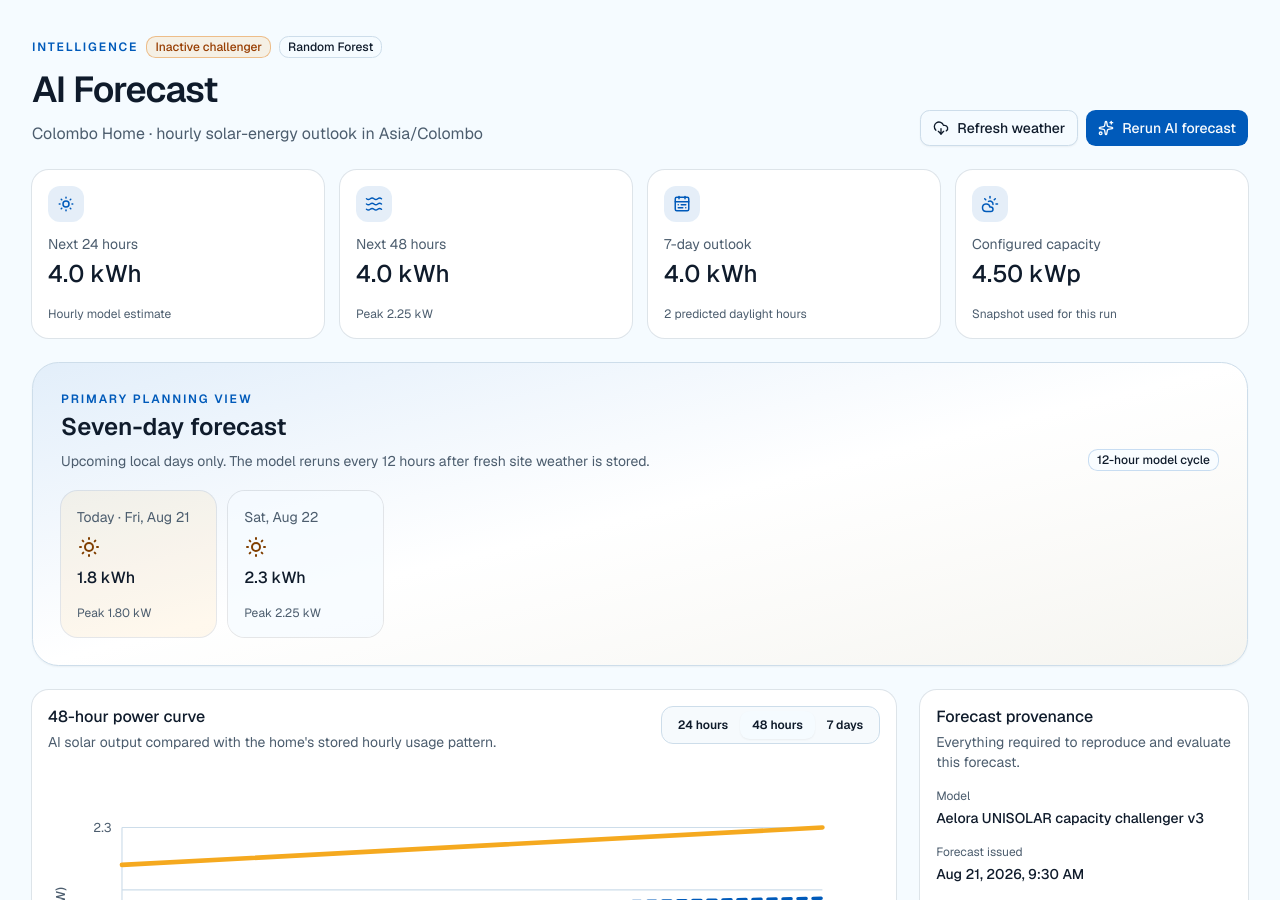
AI forecast dashboard › switches between 24-hour, 48-hour, and 7-day power curves
The image size is (1280, 900).
Expected: the heading "48-hour power curve" is shown, [48, 706, 205, 727]
Expected: the button "24 hours" is shown, [666, 711, 740, 739]
Click the button "7 days".
click(845, 725)  # box [815, 711, 875, 739]
(page scrolled)
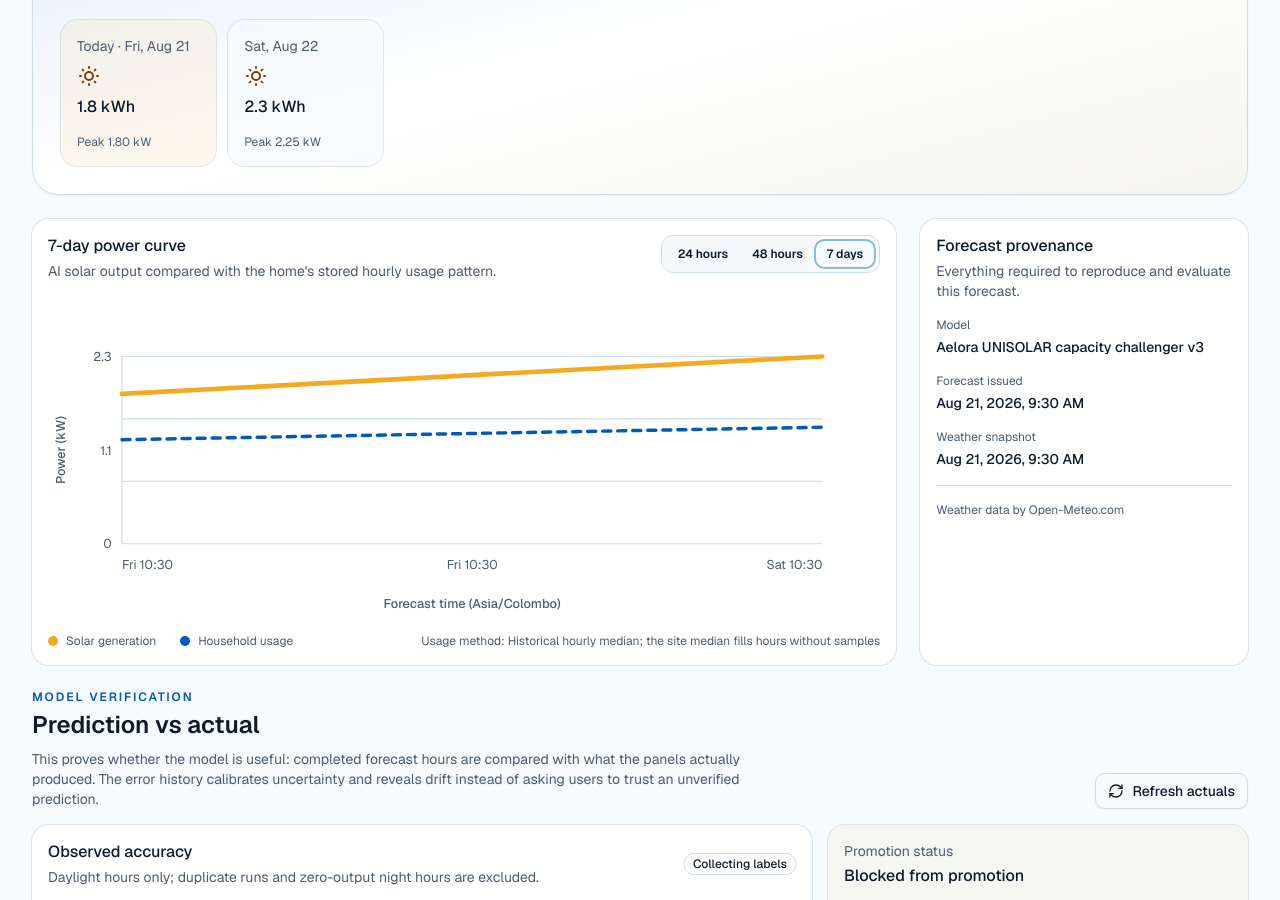
Now the heading "7-day power curve" is shown, box [48, 235, 186, 256]
Hover over the slider named "7-day power curve".
mouse_move(472, 450)  # box [122, 356, 822, 544]
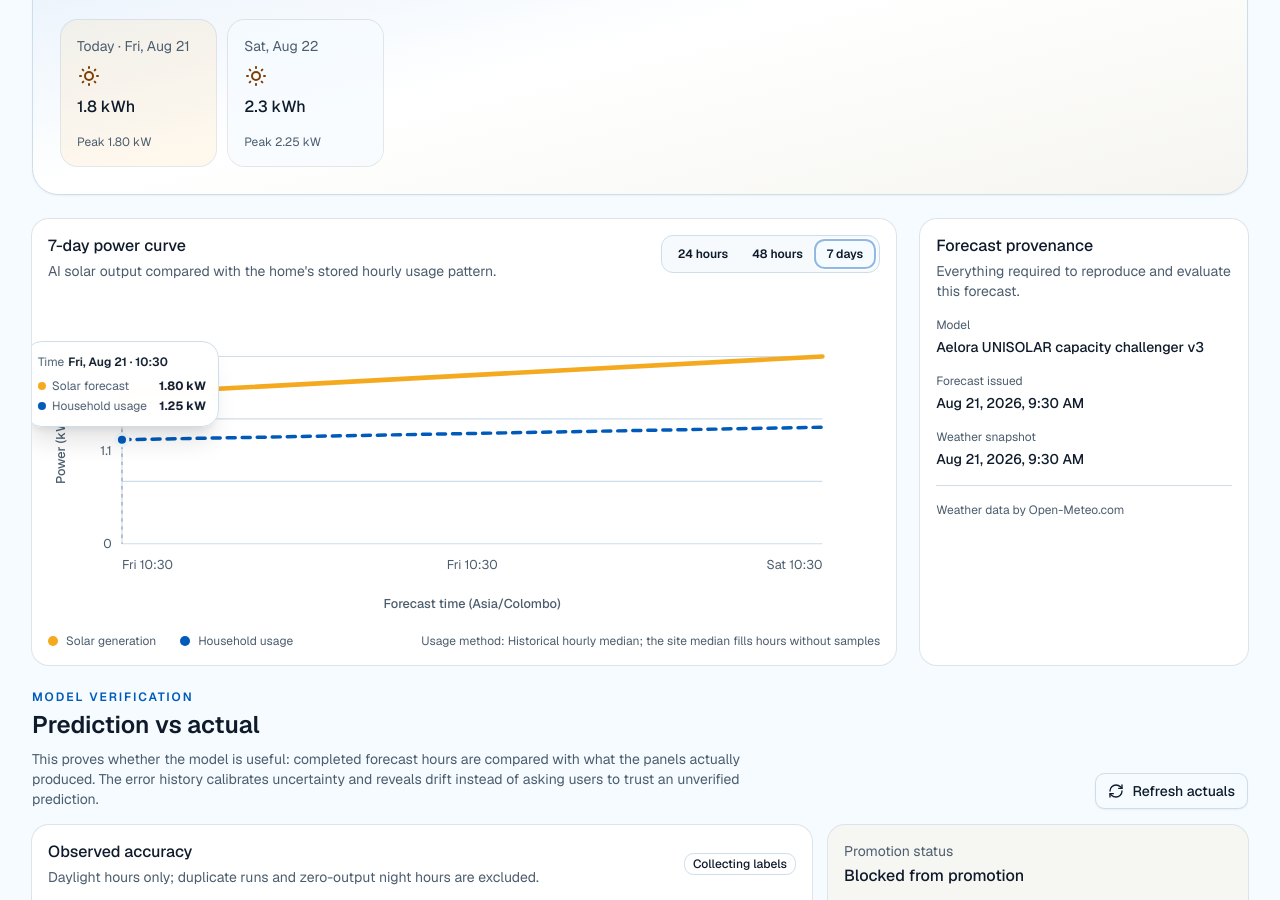
Now the message shows "Fri, Aug 21 · 10:30", box [68, 354, 168, 370]
